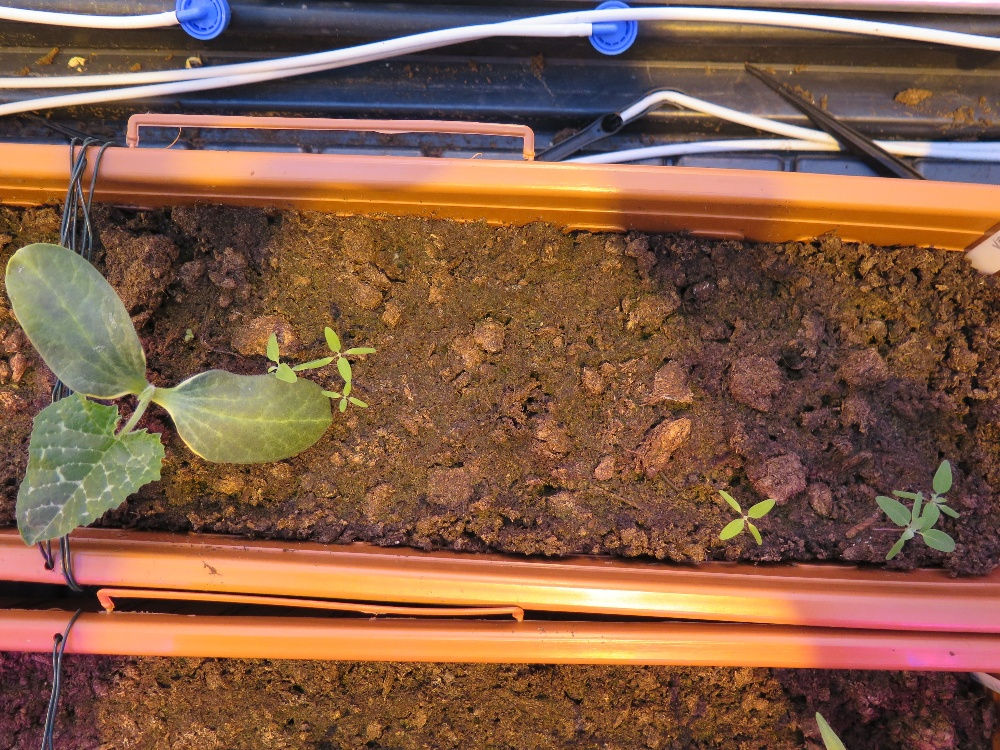Crop: (5, 237, 337, 549)
weed: (857, 482, 970, 566), (892, 452, 988, 534), (309, 370, 389, 424), (311, 322, 377, 384), (717, 487, 776, 546), (258, 336, 301, 395)
